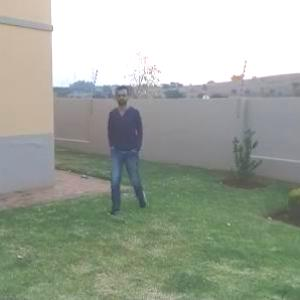follow: (104, 84, 144, 204)
